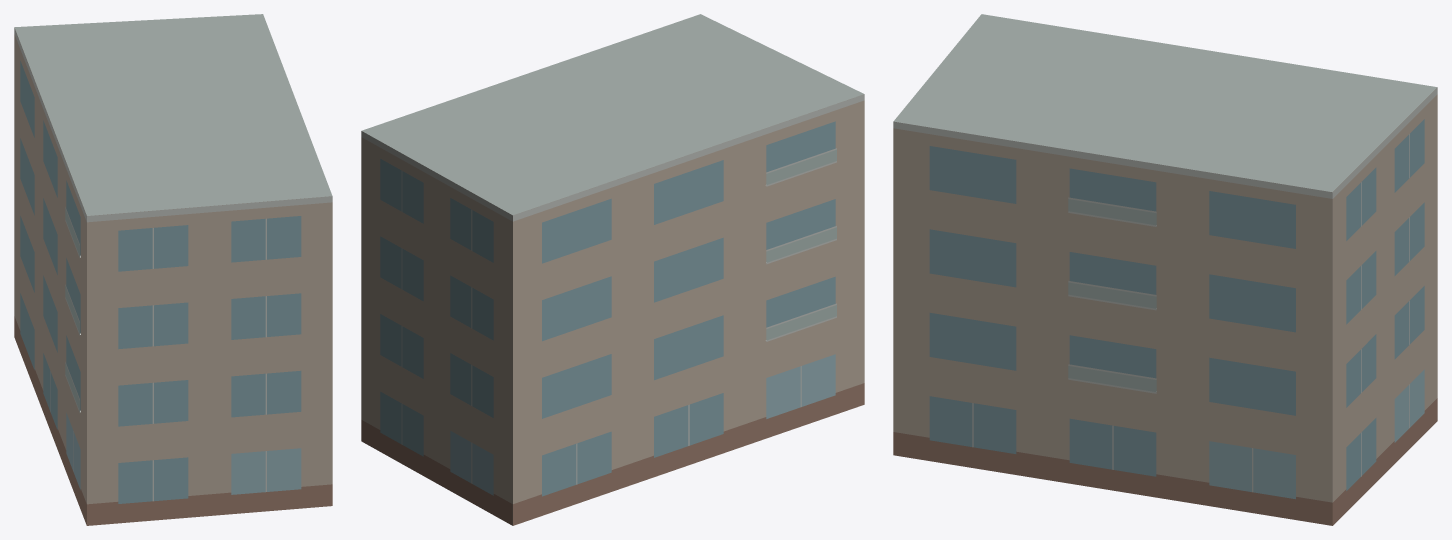
Rendered from survey-upis-32767120.glb.
The picture shows the model from 3 angles, left to right: view 1: azimuth 30°, elevation 25°; view 2: azimuth 150°, elevation 25°; view 3: azimuth 270°, elevation 25°; orthographic projection. The views are drawn at different scales.
Parts seen in each view (by area): view 1: survey-upis-32767120.tmp; view 2: survey-upis-32767120.tmp; view 3: survey-upis-32767120.tmp.
Boxes of the visible parts, box(x1,y1,x2,y2) form: survey-upis-32767120.tmp: box(14, 14, 332, 525); survey-upis-32767120.tmp: box(361, 14, 864, 525); survey-upis-32767120.tmp: box(893, 14, 1437, 525).
Size of the model in its own units: 13.87 by 12.1 by 17.9.
